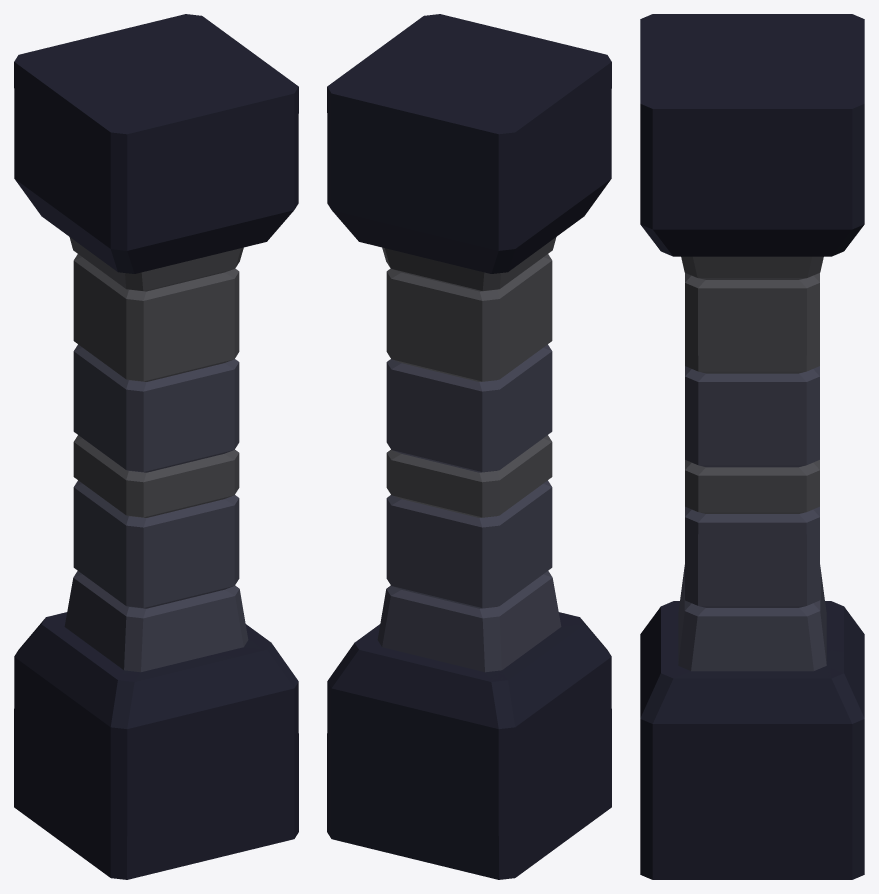
The model's file is Column_Tall.fbx.
3 renders of one model, left to right at view 1: azimuth 30°, elevation 25°; view 2: azimuth 150°, elevation 25°; view 3: azimuth 270°, elevation 25°, orthographic. The views are drawn at different scales.
Visible parts, largest first — view 1: 1-Column_Tall; view 2: 1-Column_Tall; view 3: 1-Column_Tall.
Part boxes in pixels (left/top/right/bottom): 1-Column_Tall: left=14, top=14, right=298, bottom=879; 1-Column_Tall: left=327, top=14, right=611, bottom=879; 1-Column_Tall: left=640, top=14, right=864, bottom=879.
Size of the model in its own units: 1.58 by 1.58 by 6.
